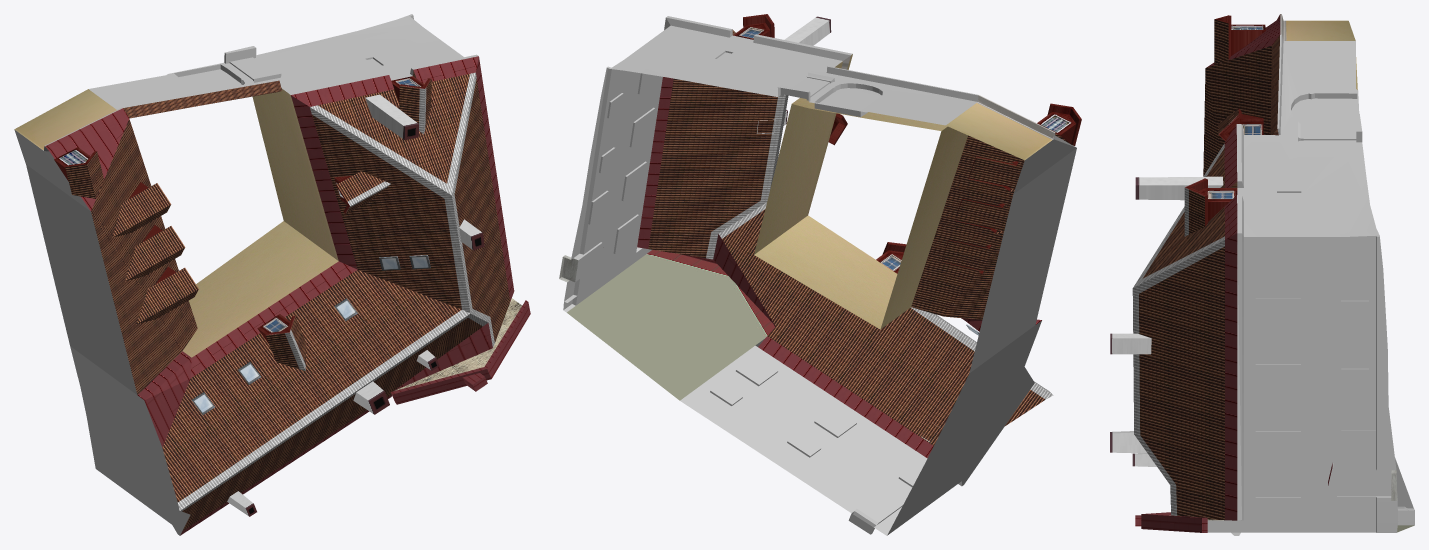
The model's file is Lossi_plats_5.obj.
3 renders of one model, left to right at view 1: azimuth 30°, elevation 25°; view 2: azimuth 150°, elevation 25°; view 3: azimuth 270°, elevation 25°, orthographic. The views are drawn at different scales.
Parts seen in each view (by area): view 1: Lossi_plats_5; view 2: Lossi_plats_5; view 3: Lossi_plats_5.
Part boxes in pixels (left/top/right/bottom): Lossi_plats_5: left=14, top=14, right=530, bottom=535; Lossi_plats_5: left=559, top=14, right=1081, bottom=535; Lossi_plats_5: left=1110, top=14, right=1414, bottom=535.
Bounding box in the file's own units: 27.37 × 24.07 × 14.33.
